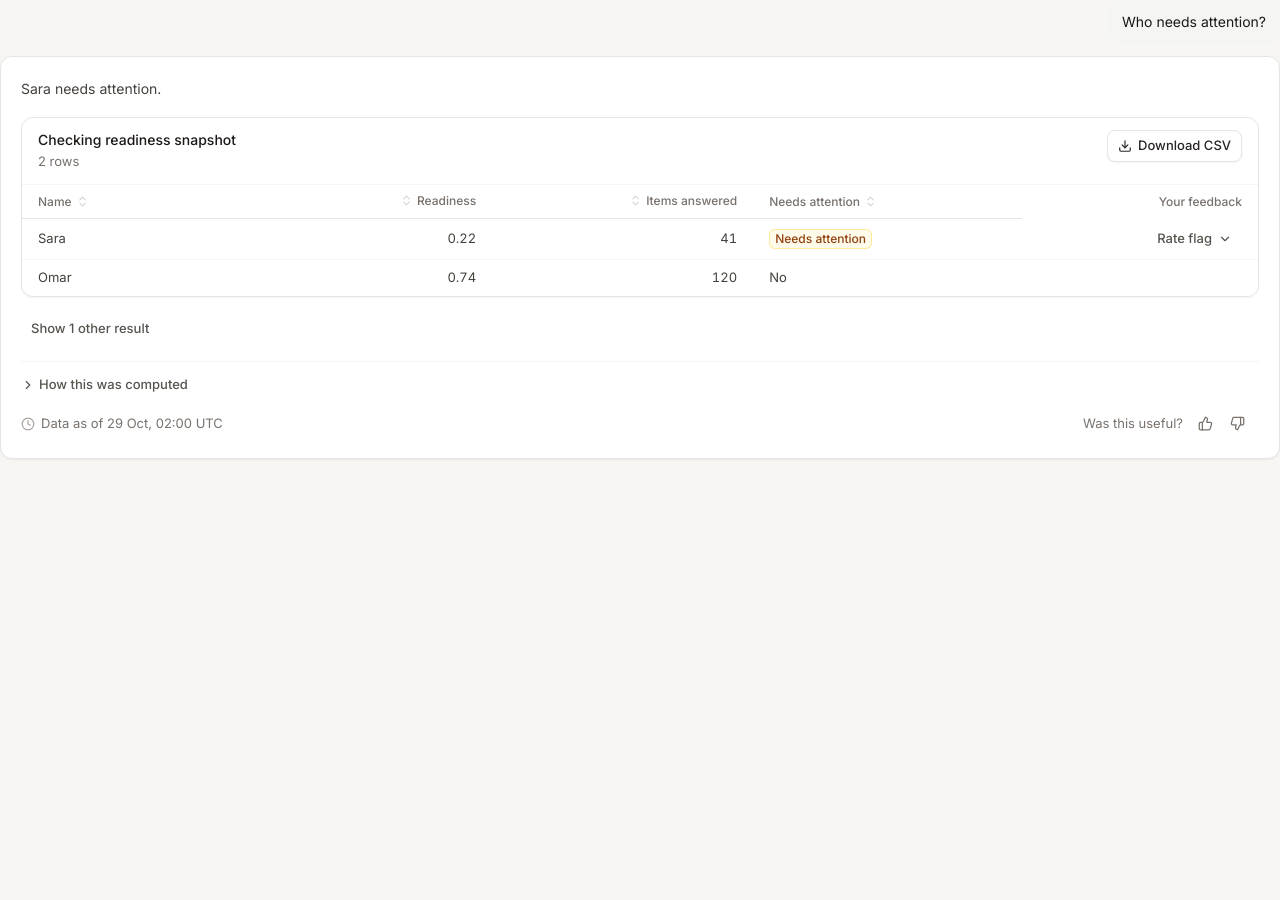
Scenario: the answer › keeps every query and folds the ones that are not the answer
The width and height of the screenshot is (1280, 900).
Expected: the text "A first look at the data" is not shown
Click the button "Show 1 other result".
click(90, 328)  # box 21,312 -> 159,344
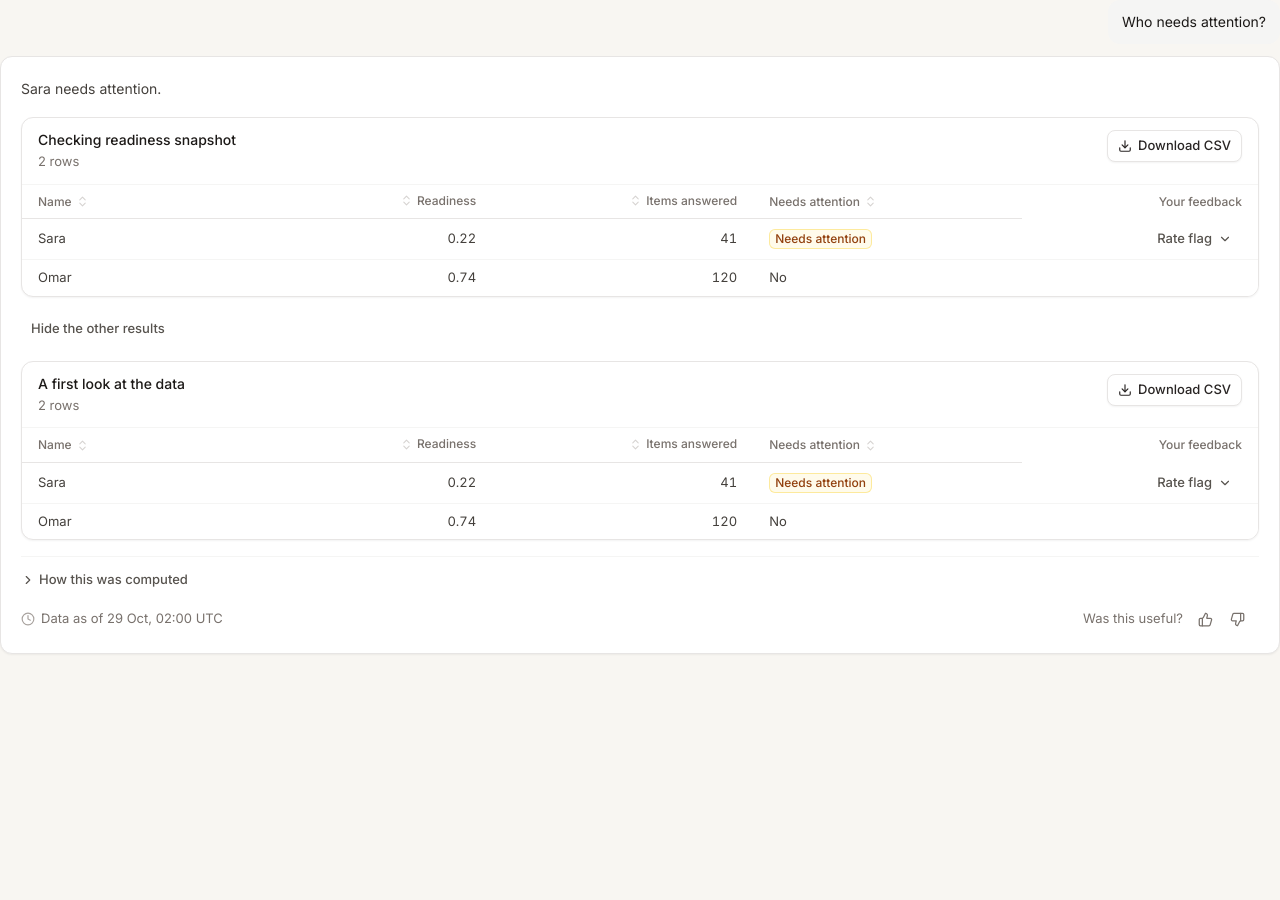
Expected: the heading "A first look at the data" is shown, 38,374 -> 185,392
